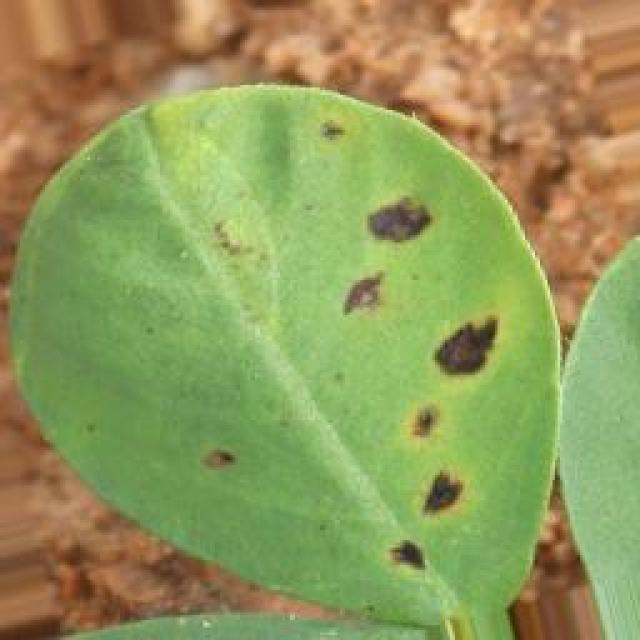Yellowish: (153, 109, 568, 614)
